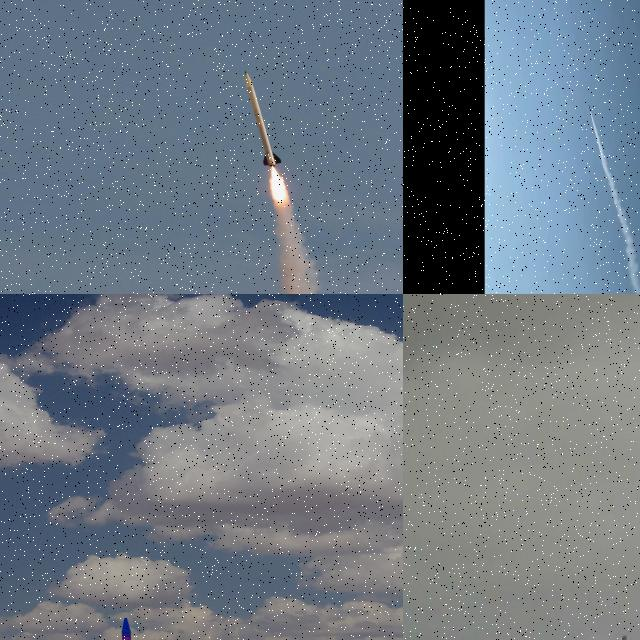Rocket: (244, 69, 282, 167), (113, 616, 142, 640), (588, 104, 591, 112)
